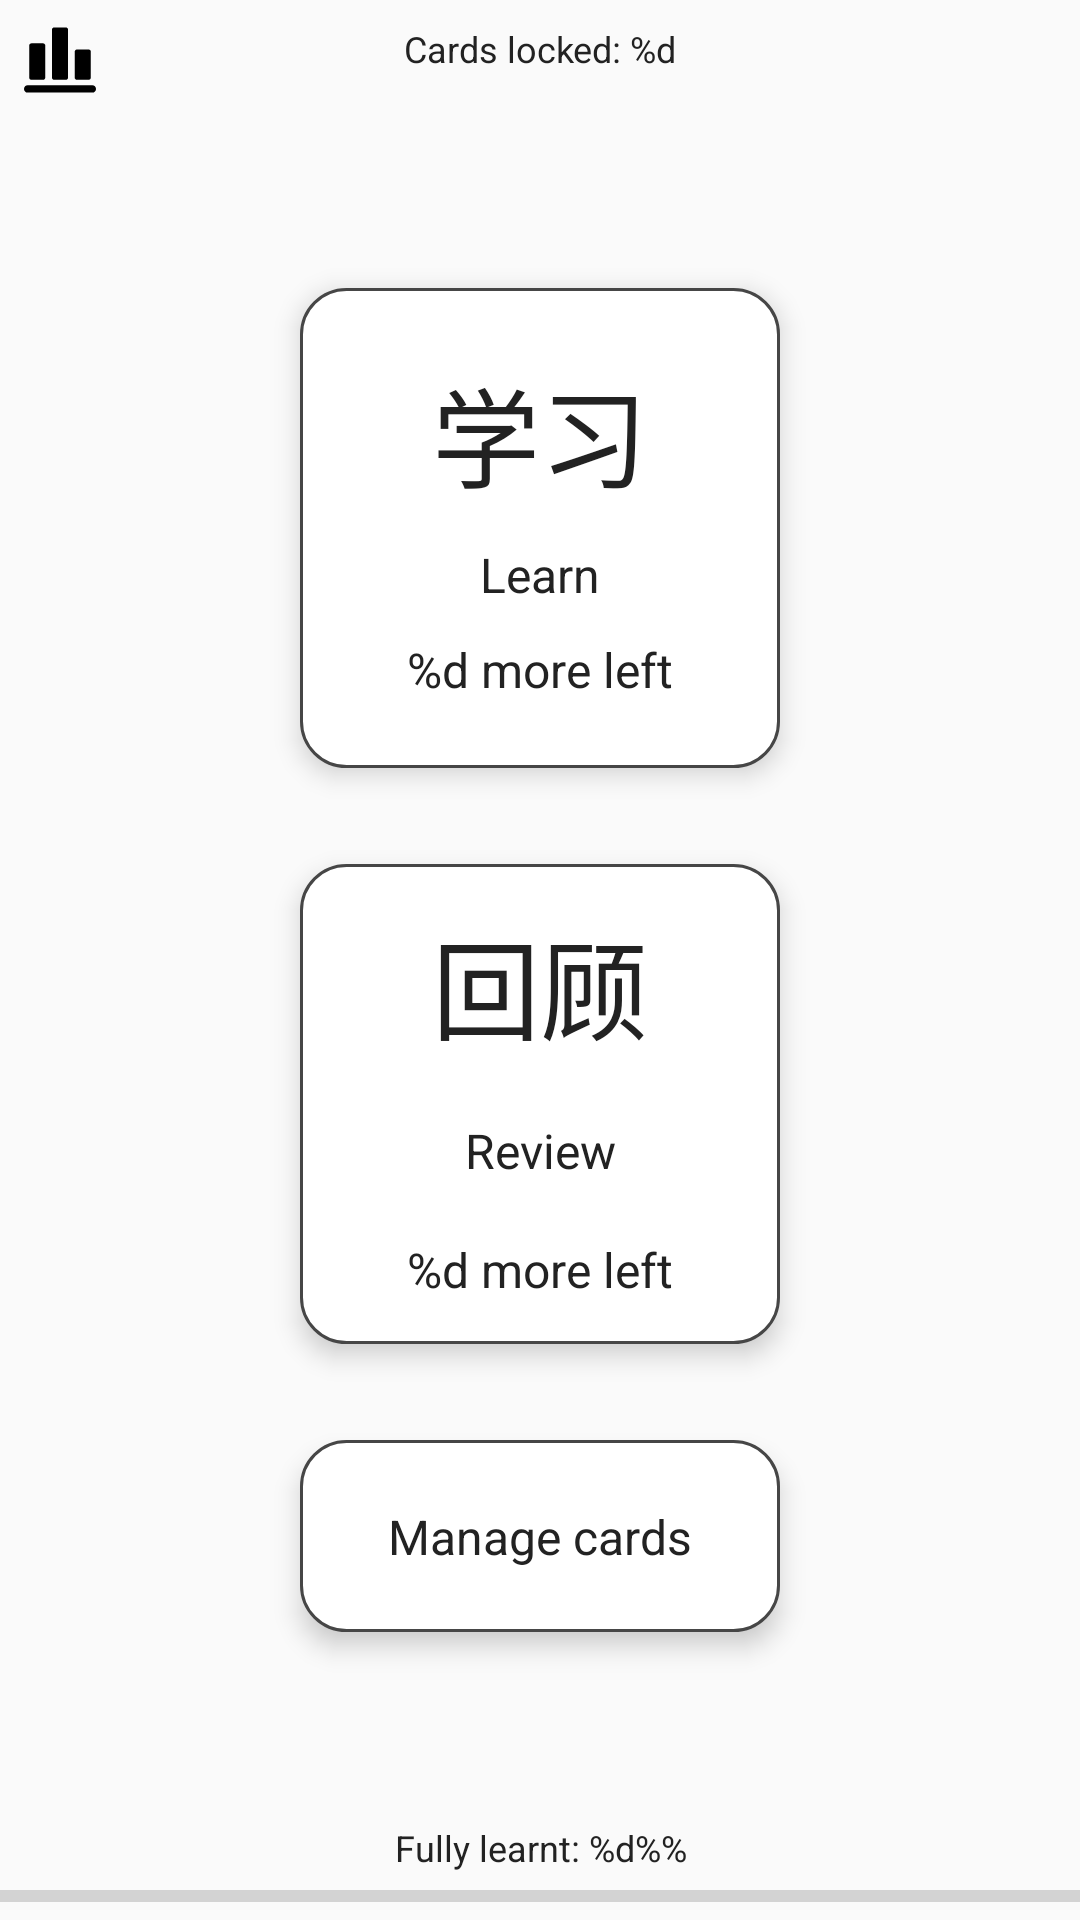

Icons on this 1080*1920 Android screen, each with the point to tap as (x,y):
stats: (60,60)
